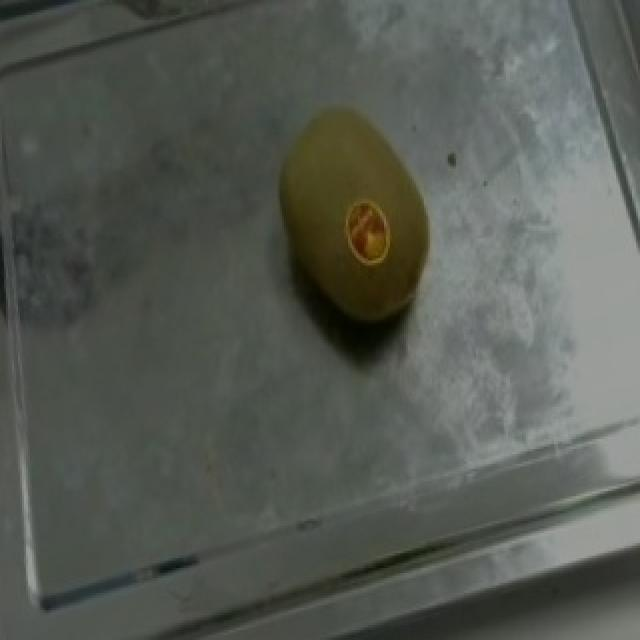Fruit: (240, 80, 470, 362)
